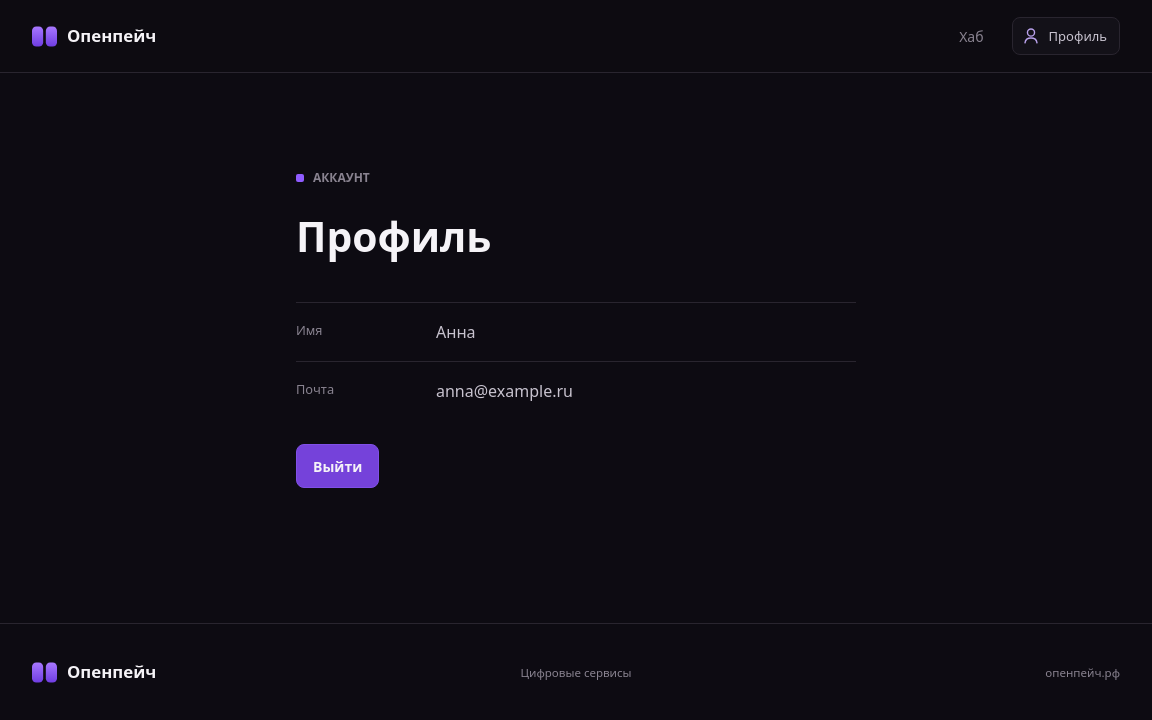
авторизация и маршруты › очищает frontend-сессию, если logout завершился сетевой ошибкой
The image size is (1152, 720).
Expected: the heading "Профиль" is shown, [296, 208, 491, 264]
Expected: the text "anna@example.ru" is shown, [436, 380, 573, 402]
Click the button "Выйти" at (338, 466), box [296, 444, 379, 488]
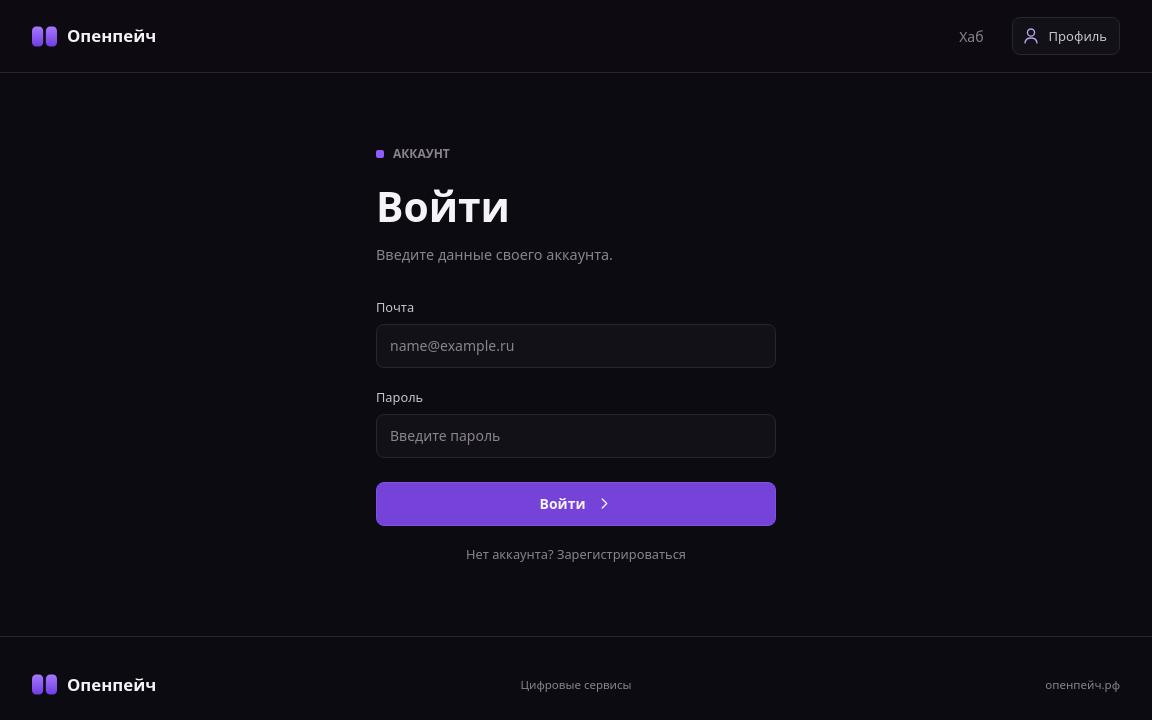
Now the heading "Войти" is shown, box [376, 178, 510, 234]
Now the text "anna@example.ru" is gone
